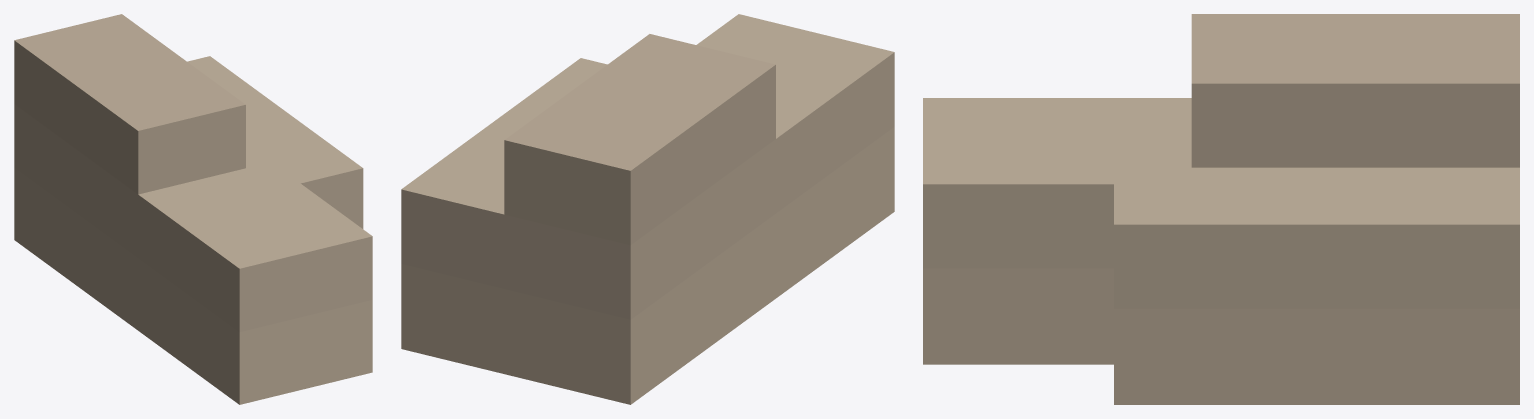
The model's file is massing.glb.
3 renders of one model, left to right at view 1: azimuth 30°, elevation 25°; view 2: azimuth 150°, elevation 25°; view 3: azimuth 270°, elevation 25°, orthographic. The views are drawn at different scales.
Visible parts, largest first — view 1: main/floor2/0/0, main/floor3/0/0, main/floor1/0/0; view 2: main/floor2/0/0, main/floor1/0/0, main/floor3/0/0; view 3: main/floor2/0/0, main/floor1/0/0, main/floor3/0/0.
Part boxes in pixels (x1,y1,x2,y2): main/floor2/0/0: [14, 56, 372, 332]; main/floor3/0/0: [14, 14, 245, 194]; main/floor1/0/0: [14, 167, 372, 404]; main/floor2/0/0: [401, 14, 894, 319]; main/floor1/0/0: [401, 127, 894, 404]; main/floor3/0/0: [504, 34, 775, 245]; main/floor2/0/0: [923, 98, 1519, 308]; main/floor1/0/0: [923, 268, 1519, 404]; main/floor3/0/0: [1191, 14, 1519, 167].
Size of the model in its own units: 9.03 by 8.8 by 18.
